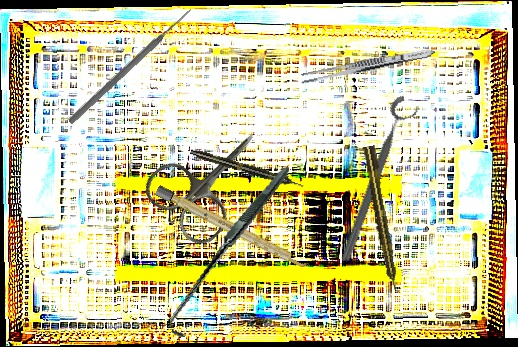Dressing Forceps: (299, 44, 436, 87)
Fixation Ring: (335, 92, 423, 268)
Handpiece: (362, 144, 402, 295), (189, 146, 305, 192)
Hook Surgical: (141, 166, 321, 340)
Iris Scissors: (137, 104, 286, 252)
Pusher: (66, 6, 195, 126)
Scalpel Handle: (154, 185, 312, 272)
